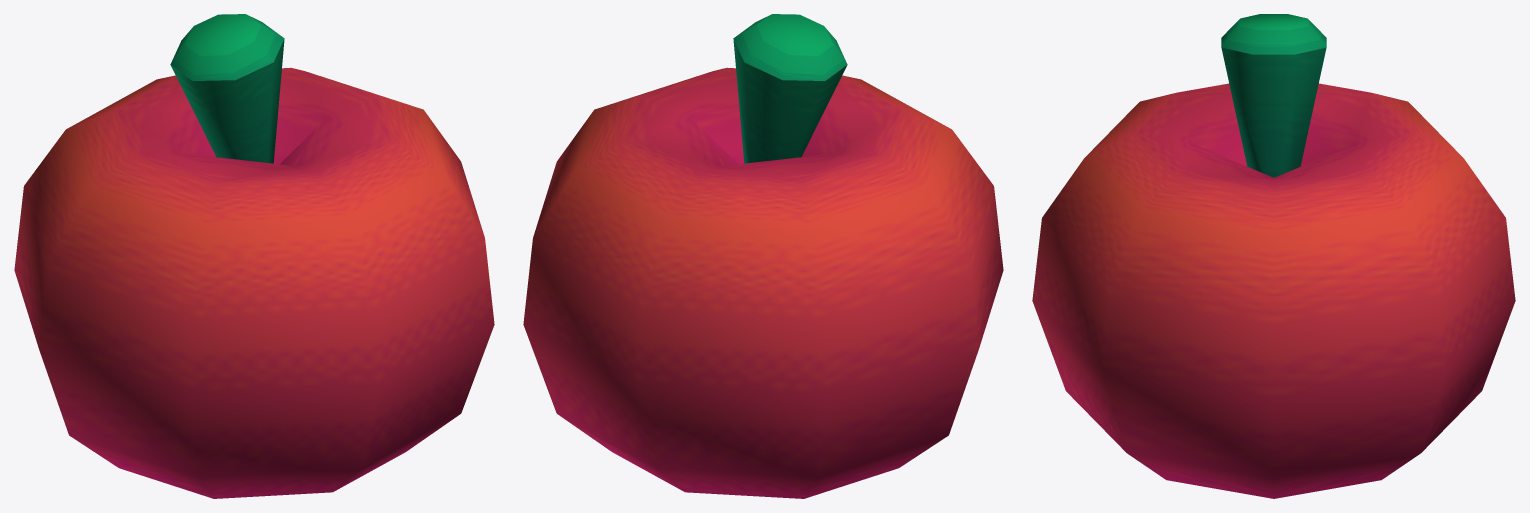
File: icecream_cherry.gltf
3 renders of one model, left to right at view 1: azimuth 30°, elevation 25°; view 2: azimuth 150°, elevation 25°; view 3: azimuth 270°, elevation 25°, orthographic. The views are drawn at different scales.
Visible parts, largest first — view 1: icecream_cherry; view 2: icecream_cherry; view 3: icecream_cherry.
Part boxes in pixels (x1,y1,x2,y2): icecream_cherry: [14, 14, 494, 498]; icecream_cherry: [523, 14, 1003, 498]; icecream_cherry: [1032, 14, 1515, 498].
Size of the model in its own units: 0.2443 by 0.2393 by 0.2443.
Materials: 1 (1 with a texture image).
